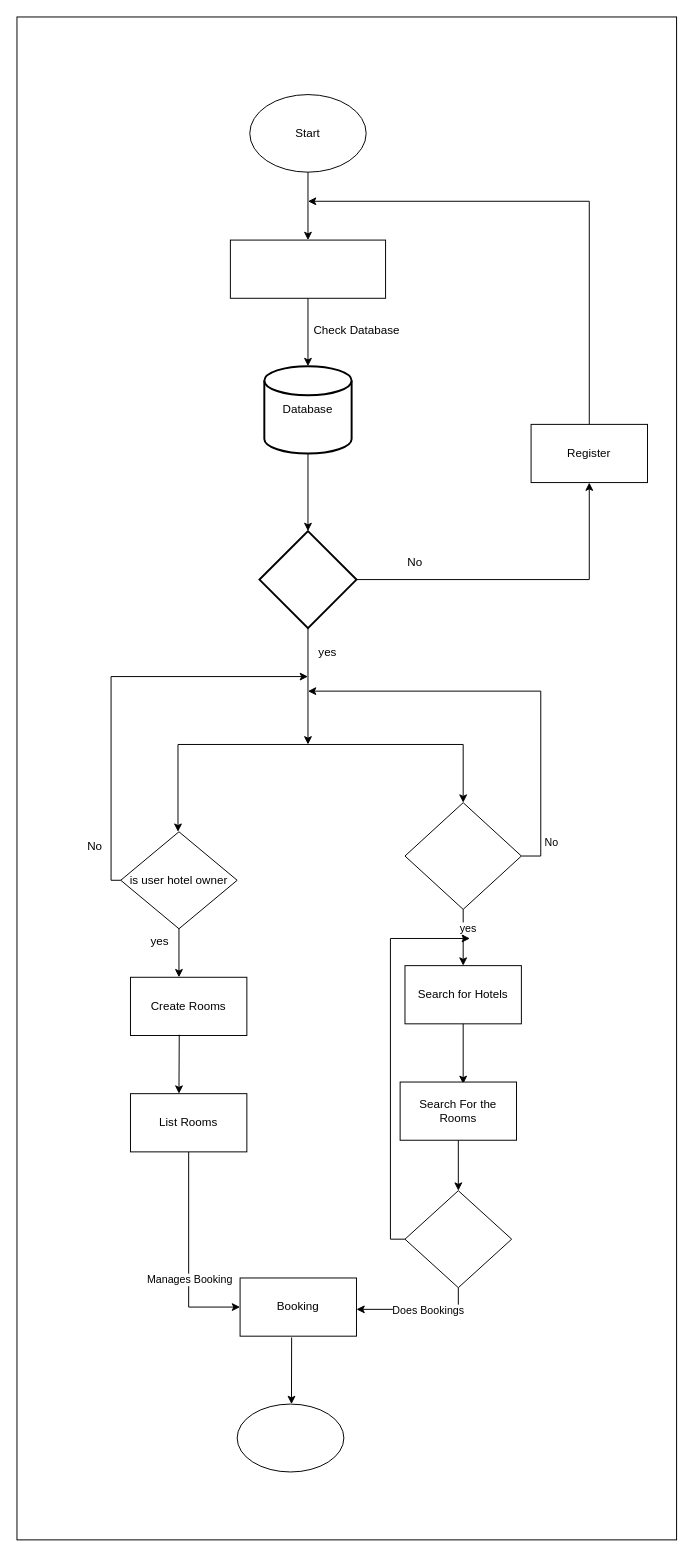
This 694x1557 diagram has some shape labels left out. Each missing label, with the centre of its shape:
End: the point at 290,1437
if user exist?: the point at 307,579
Is Room available: the point at 458,1239
is user end-user: the point at 462,855
Login: the point at 307,268
